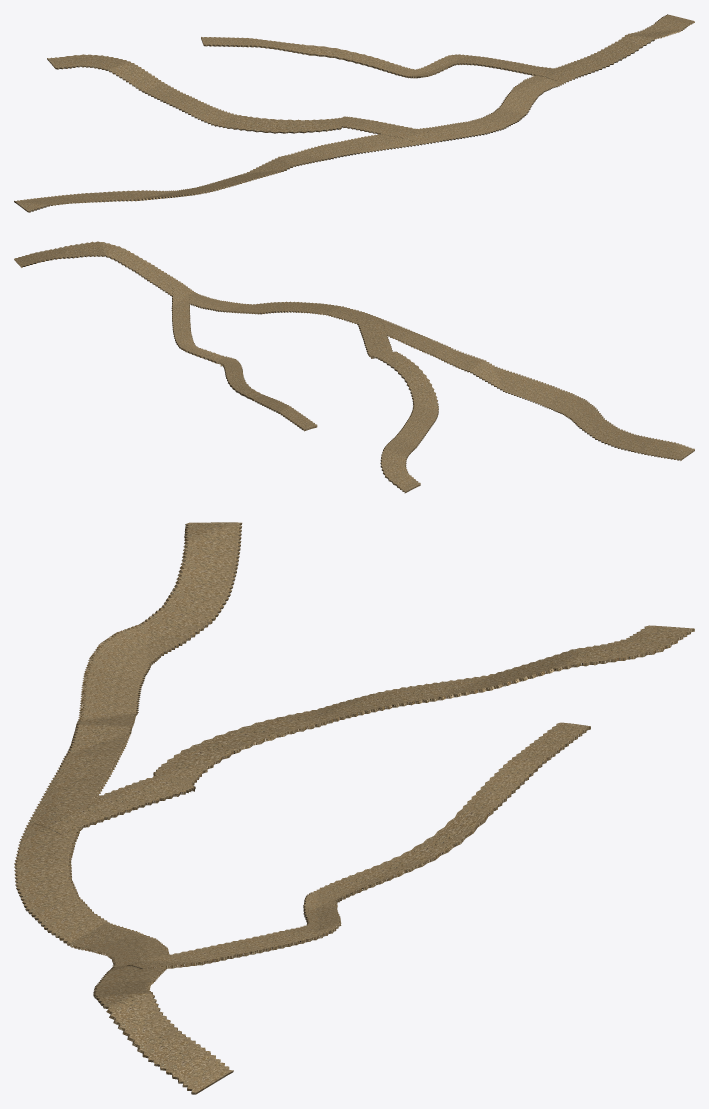
Rendered from Level6B1road.fbx.
3 renders of one model, top to bottom at view 1: azimuth 30°, elevation 25°; view 2: azimuth 150°, elevation 25°; view 3: azimuth 270°, elevation 25°, orthographic. The views are drawn at different scales.
Visible parts, largest first — view 1: Plane, Plane.001, Plane.002; view 2: Plane, Plane.001, Plane.002; view 3: Plane, Plane.001, Plane.002.
Boxes of the visible parts, x1,y1,x2,y2 form: Plane: (14, 14, 694, 212); Plane.001: (47, 54, 428, 142); Plane.002: (201, 37, 565, 80); Plane: (14, 241, 694, 460); Plane.001: (356, 318, 438, 493); Plane.002: (171, 288, 317, 431); Plane: (14, 522, 242, 1094); Plane.001: (34, 625, 694, 834); Plane.002: (127, 722, 590, 969).
Size of the model in its own units: 11260 by 793 by 5233.
